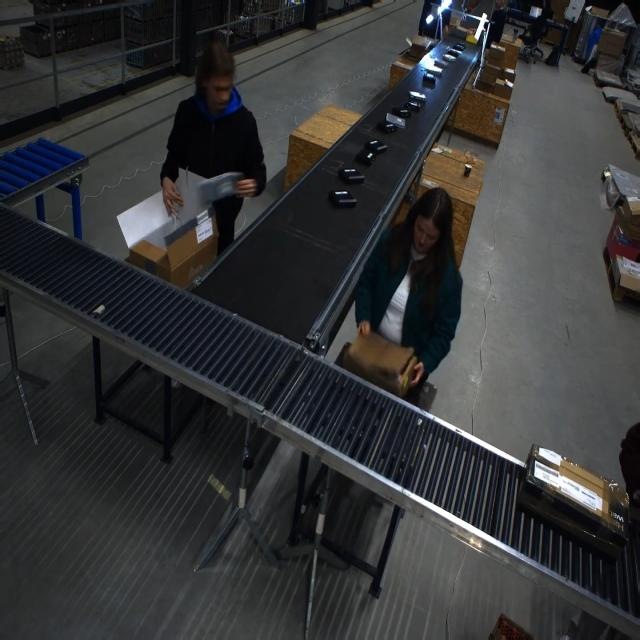box: (514, 441, 631, 562), (125, 211, 221, 290), (344, 330, 414, 396)
product: (328, 190, 356, 208), (337, 167, 364, 184), (420, 58, 444, 77), (354, 149, 378, 167), (365, 139, 387, 154), (385, 112, 405, 128), (377, 121, 398, 134), (391, 106, 410, 118), (405, 101, 421, 113), (408, 91, 426, 101), (423, 72, 436, 84), (433, 58, 448, 68), (453, 42, 467, 52), (448, 49, 462, 57)
